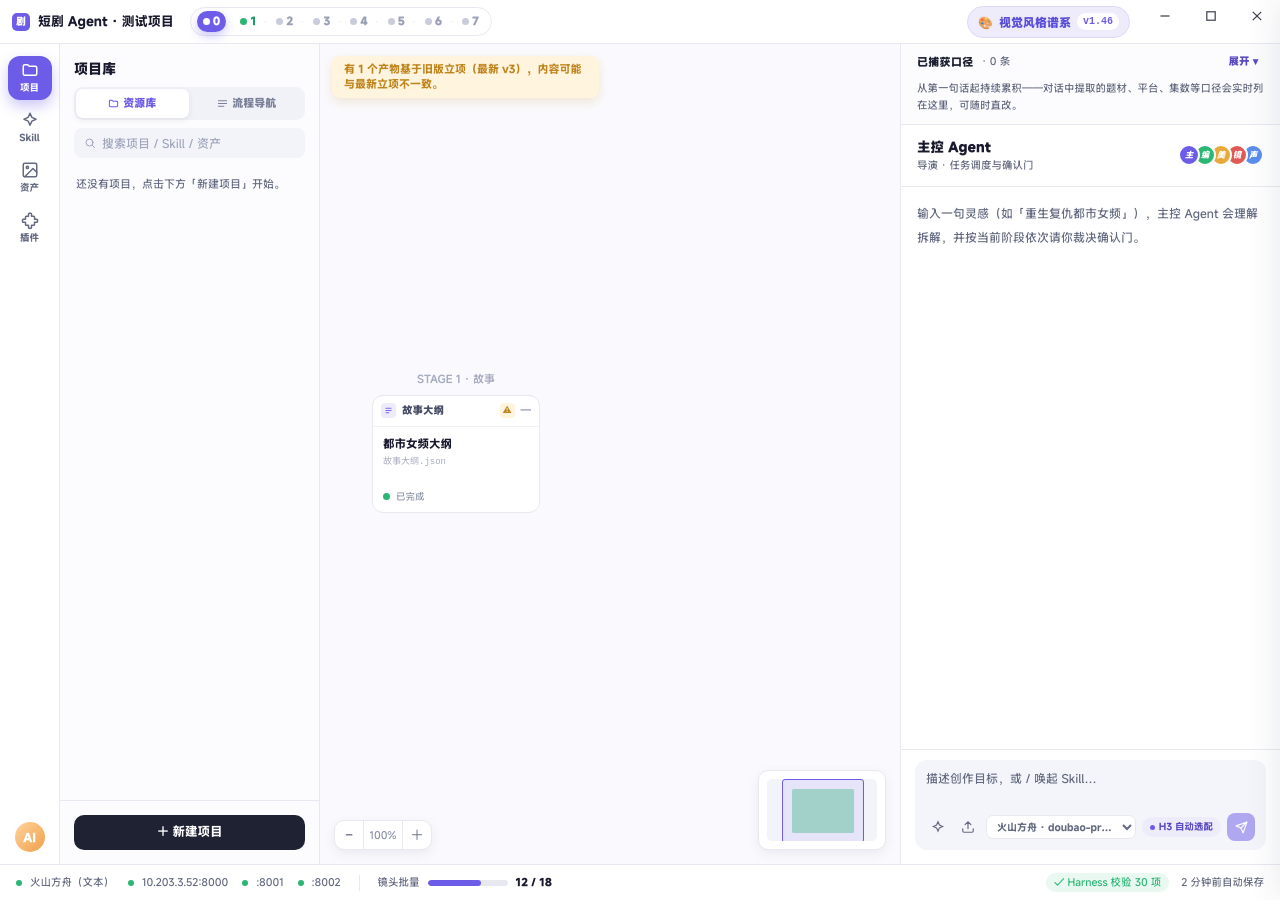
Test: feature-011 · StudioApp 黄条回读重开面板（T-⑧） › fileRead 失败 → 面板内降级提示，不崩溃
expect the text "都市女频大纲" is shown: met, box [383,436,452,451]
What coordinates should you click on to do the following:
click the button "故事大纲 ⚠ — 都市女频大纲 故事大纲.json 已完成"
I would click on:
 (456, 454)
Its box is [372,395,540,513].
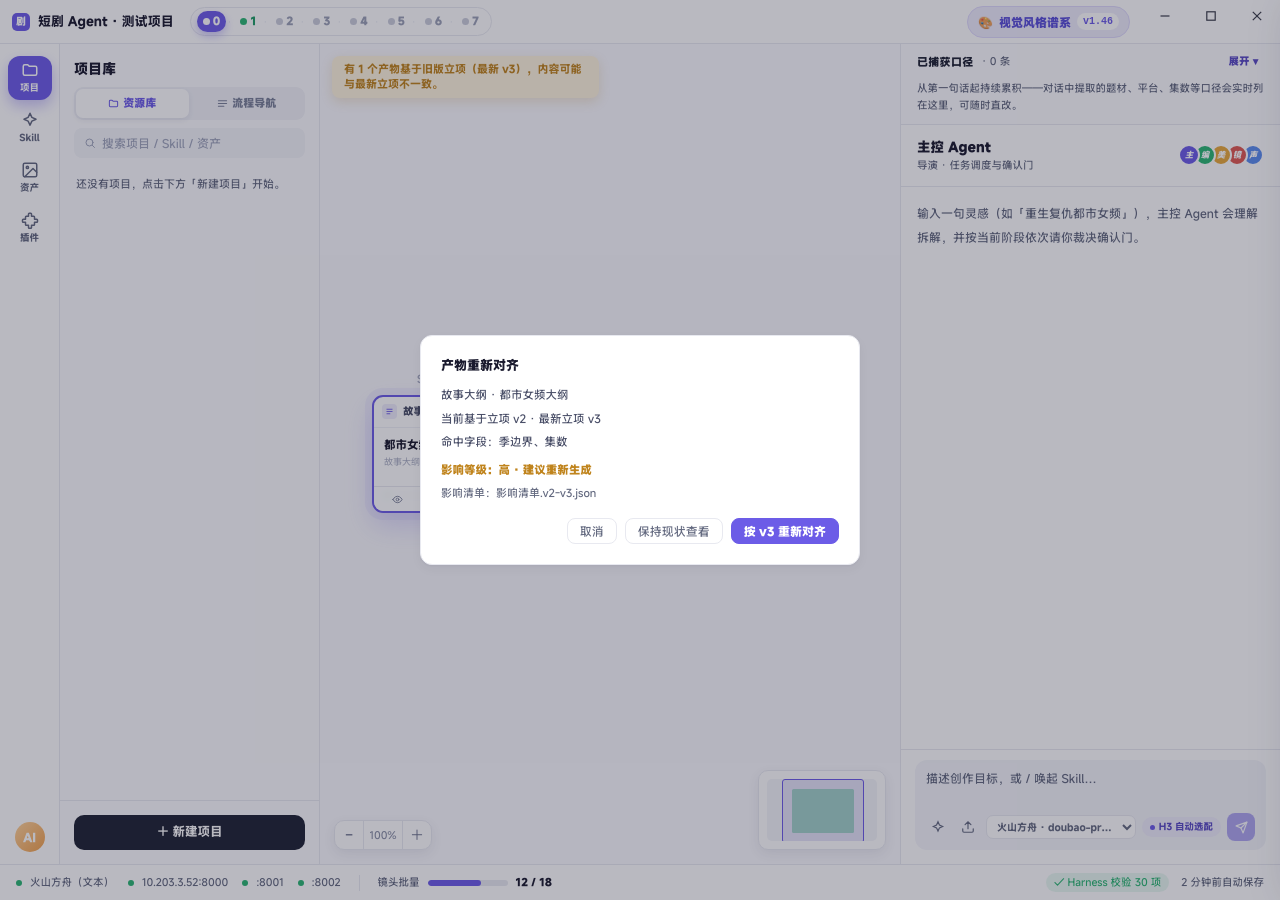
What coordinates should you click on to do the following:
click the button "保持现状查看"
I would click on:
 (674, 531)
Its box is [625,518,723,544].
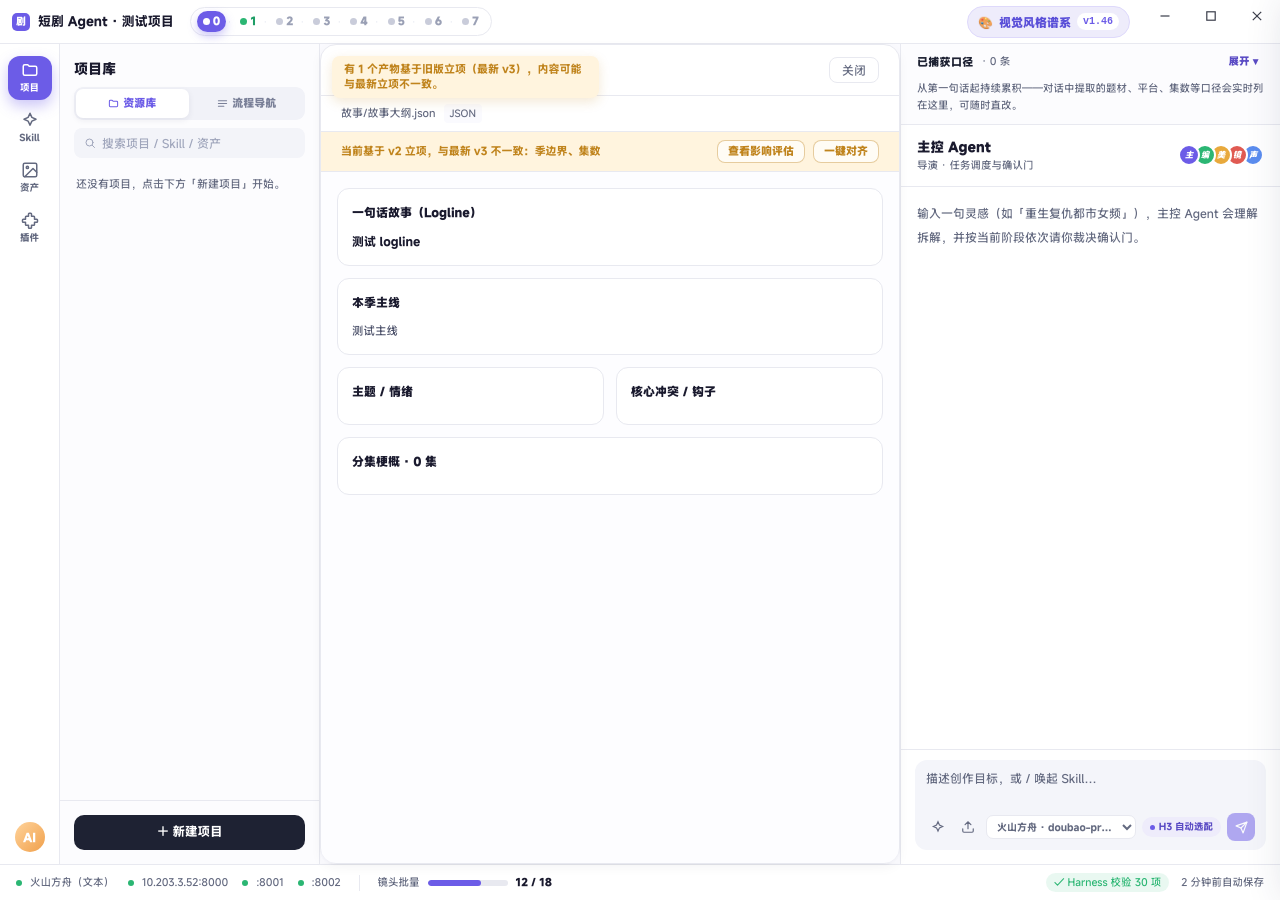
What coordinates should you click on to do the following:
click the button "查看影响评估"
I would click on:
 (761, 151)
Its box is [717,140,805,162].
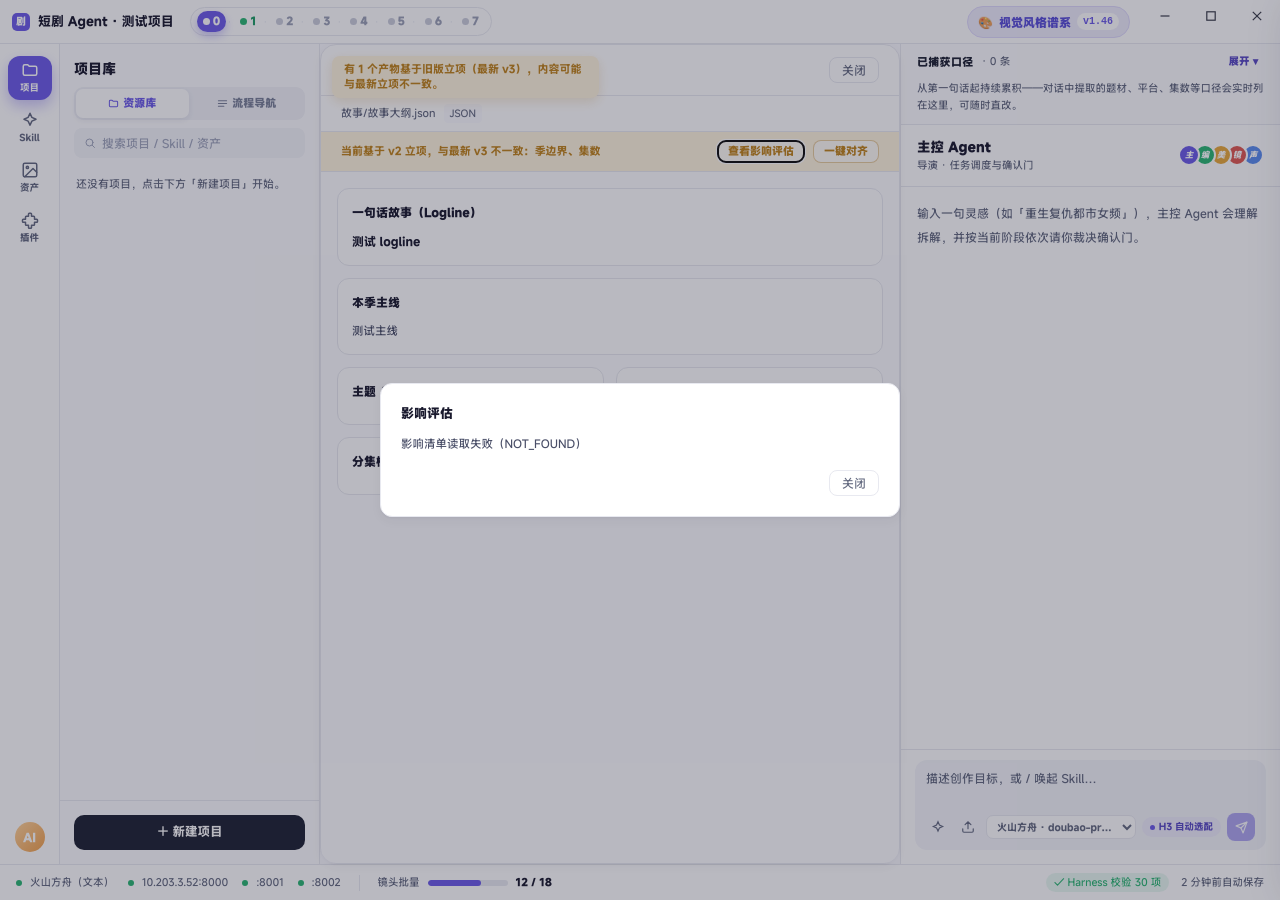
expect the dialog "影响评估" shows "影响清单读取失败（NOT_FOUND）": met, box [401,436,587,451]
